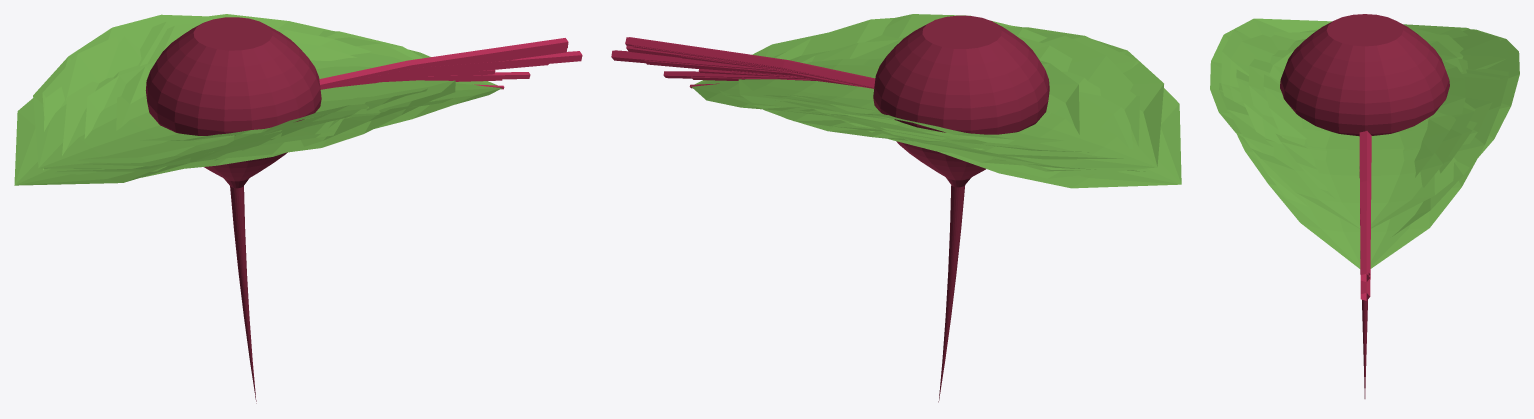
The model's file is beetroot_harvest_v05.articulated.glb.
3 views of the same model, side by side, from view 1: azimuth 30°, elevation 25°; view 2: azimuth 150°, elevation 25°; view 3: azimuth 270°, elevation 25° (orthographic). The views are drawn at different scales.
Parts seen in each view (by area): view 1: root, leaf04_link2, leaf03_link2, leaf02_link2, leaf05_link2, leaf07_link2, leaf01_link2, leaf02_link0, leaf03_link0, leaf06_link2, leaf00_link2, leaf00_link0 (+1 smaller); view 2: root, leaf04_link2, leaf03_link2, leaf02_link2, leaf07_link2, leaf06_link2, leaf05_link2, leaf02_link0, leaf03_link0, leaf00_link2, leaf01_link2, leaf05_link0 (+2 smaller); view 3: root, leaf04_link2, leaf03_link2, leaf05_link2, leaf07_link2, leaf06_link2, leaf02_link2, leaf01_link2, leaf02_link0, leaf00_link2, leaf03_link0.
Part boxes in pixels (left/top/right/bottom): root: left=145, top=17, right=321, bottom=403; leaf04_link2: left=33, top=14, right=455, bottom=169; leaf03_link2: left=14, top=14, right=504, bottom=185; leaf02_link2: left=62, top=29, right=383, bottom=163; leaf05_link2: left=42, top=30, right=458, bottom=171; leaf07_link2: left=116, top=60, right=427, bottom=140; leaf01_link2: left=84, top=42, right=378, bottom=142; leaf02_link0: left=319, top=38, right=568, bottom=85; leaf03_link0: left=320, top=51, right=582, bottom=89; leaf06_link2: left=83, top=22, right=335, bottom=166; leaf00_link2: left=43, top=28, right=380, bottom=177; leaf00_link0: left=320, top=48, right=567, bottom=86; root: left=873, top=15, right=1049, bottom=402; leaf04_link2: left=738, top=18, right=1163, bottom=178; leaf03_link2: left=689, top=27, right=1181, bottom=188; leaf02_link2: left=764, top=35, right=1133, bottom=159; leaf07_link2: left=801, top=39, right=1079, bottom=145; leaf06_link2: left=800, top=31, right=1139, bottom=149; leaf05_link2: left=719, top=14, right=1136, bottom=171; leaf02_link0: left=625, top=37, right=875, bottom=87; leaf03_link0: left=611, top=50, right=858, bottom=86; leaf00_link2: left=775, top=26, right=1145, bottom=171; leaf01_link2: left=788, top=94, right=1088, bottom=152; leaf05_link0: left=644, top=60, right=873, bottom=88; root: left=1280, top=14, right=1449, bottom=398; leaf04_link2: left=1210, top=18, right=1519, bottom=228; leaf03_link2: left=1221, top=24, right=1508, bottom=268; leaf05_link2: left=1219, top=29, right=1508, bottom=236; leaf07_link2: left=1269, top=51, right=1465, bottom=198; leaf06_link2: left=1229, top=32, right=1500, bottom=144; leaf02_link2: left=1248, top=33, right=1475, bottom=187; leaf01_link2: left=1263, top=41, right=1462, bottom=177; leaf02_link0: left=1359, top=131, right=1371, bottom=278; leaf00_link2: left=1236, top=27, right=1476, bottom=173; leaf03_link0: left=1359, top=159, right=1371, bottom=300.
Bounding box in the file's own units: 0.267 × 0.1698 × 0.1311.
Materials: 1 (1 with a texture image).
